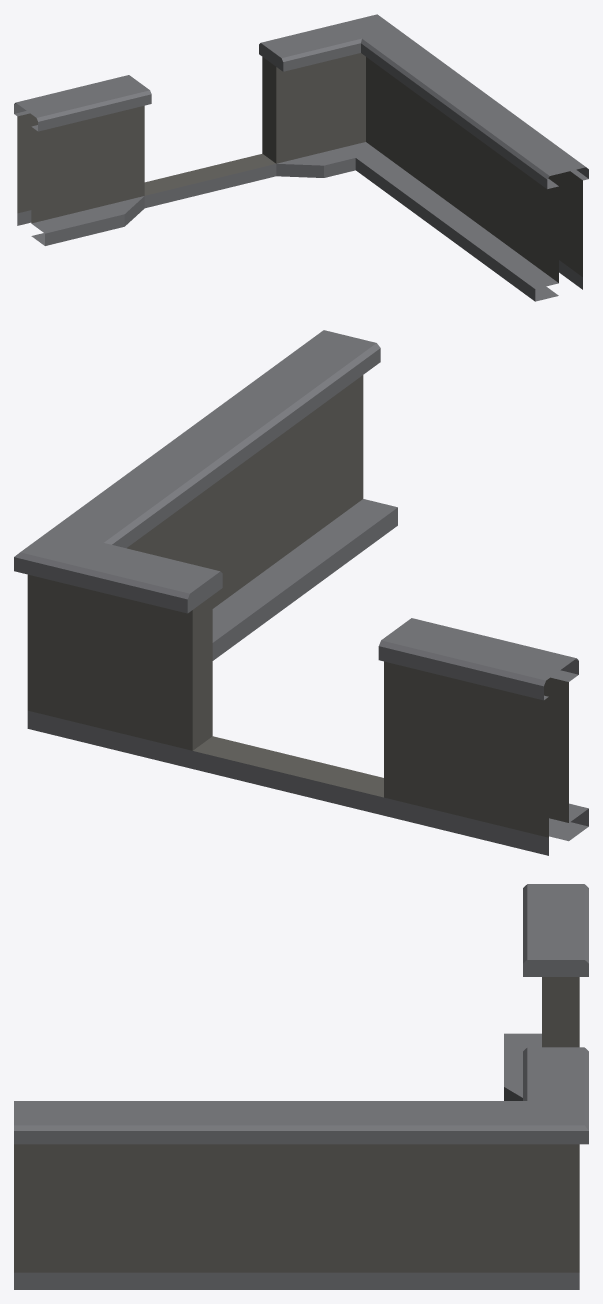
File: SM_Roof_Corner_In_Ladder_L.fbx
The picture shows the model from 3 angles, top to bottom: view 1: azimuth 30°, elevation 25°; view 2: azimuth 150°, elevation 25°; view 3: azimuth 270°, elevation 25°; orthographic projection. The views are drawn at different scales.
Parts seen in each view (by area): view 1: SM_Roof_Corner_In_Ladder_L; view 2: SM_Roof_Corner_In_Ladder_L; view 3: SM_Roof_Corner_In_Ladder_L.
Part boxes in pixels (<box>): SM_Roof_Corner_In_Ladder_L: <box>14,14,588,301</box>; SM_Roof_Corner_In_Ladder_L: <box>14,330,588,855</box>; SM_Roof_Corner_In_Ladder_L: <box>14,884,588,1289</box>.
Bounding box in the file's own units: 305 × 97.55 × 305.
